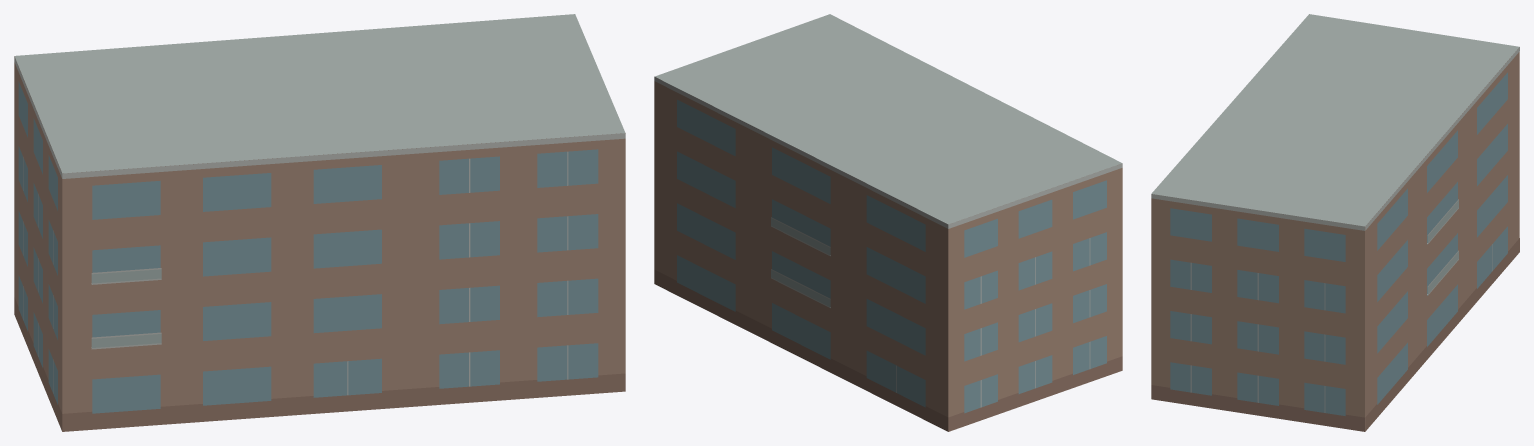
Rendered from survey-upis-32888515.glb.
3 views of the same model, side by side, from view 1: azimuth 30°, elevation 25°; view 2: azimuth 150°, elevation 25°; view 3: azimuth 270°, elevation 25° (orthographic). The views are drawn at different scales.
Parts seen in each view (by area): view 1: survey-upis-32888515.tmp; view 2: survey-upis-32888515.tmp; view 3: survey-upis-32888515.tmp.
Boxes of the visible parts, bbox=[...] form: survey-upis-32888515.tmp: bbox=[14, 14, 625, 431]; survey-upis-32888515.tmp: bbox=[654, 14, 1122, 431]; survey-upis-32888515.tmp: bbox=[1151, 14, 1519, 431].
Size of the model in its own units: 25.09 by 11.3 by 18.39.
